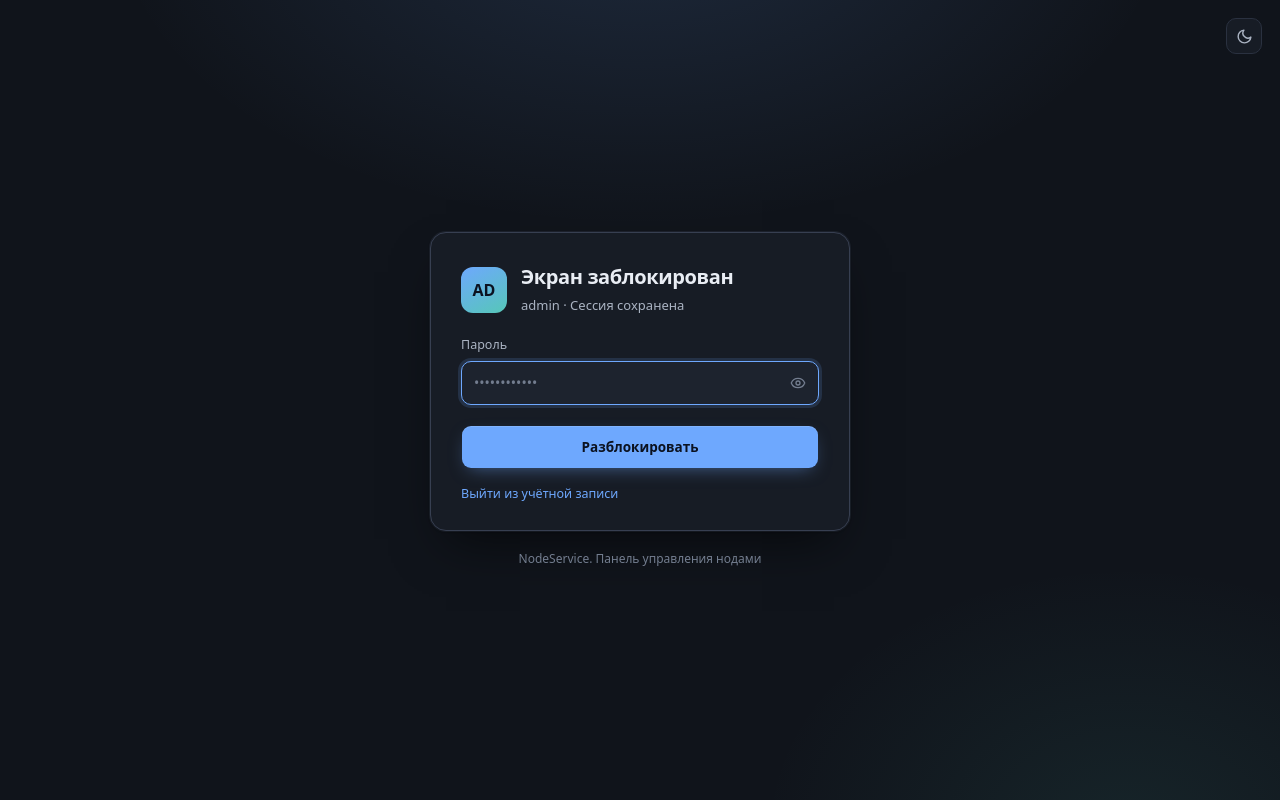
Test: LockPage › неверный пароль → ошибка, поле очищено
Type "wrong" into the password field labelled "Пароль".
click(640, 382); type("wrong")  # box [461,360,819,404]
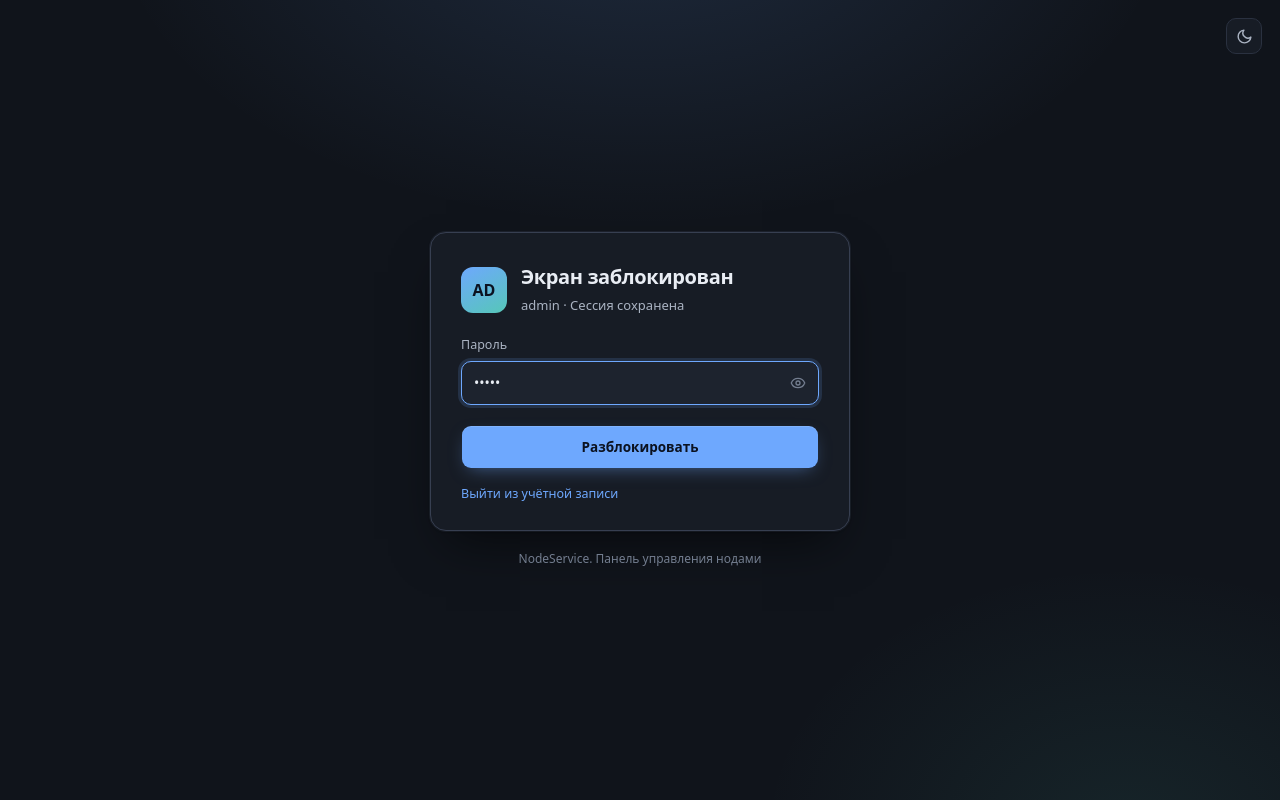
Click the button "Разблокировать".
click(640, 447)  # box [461,424,819,469]
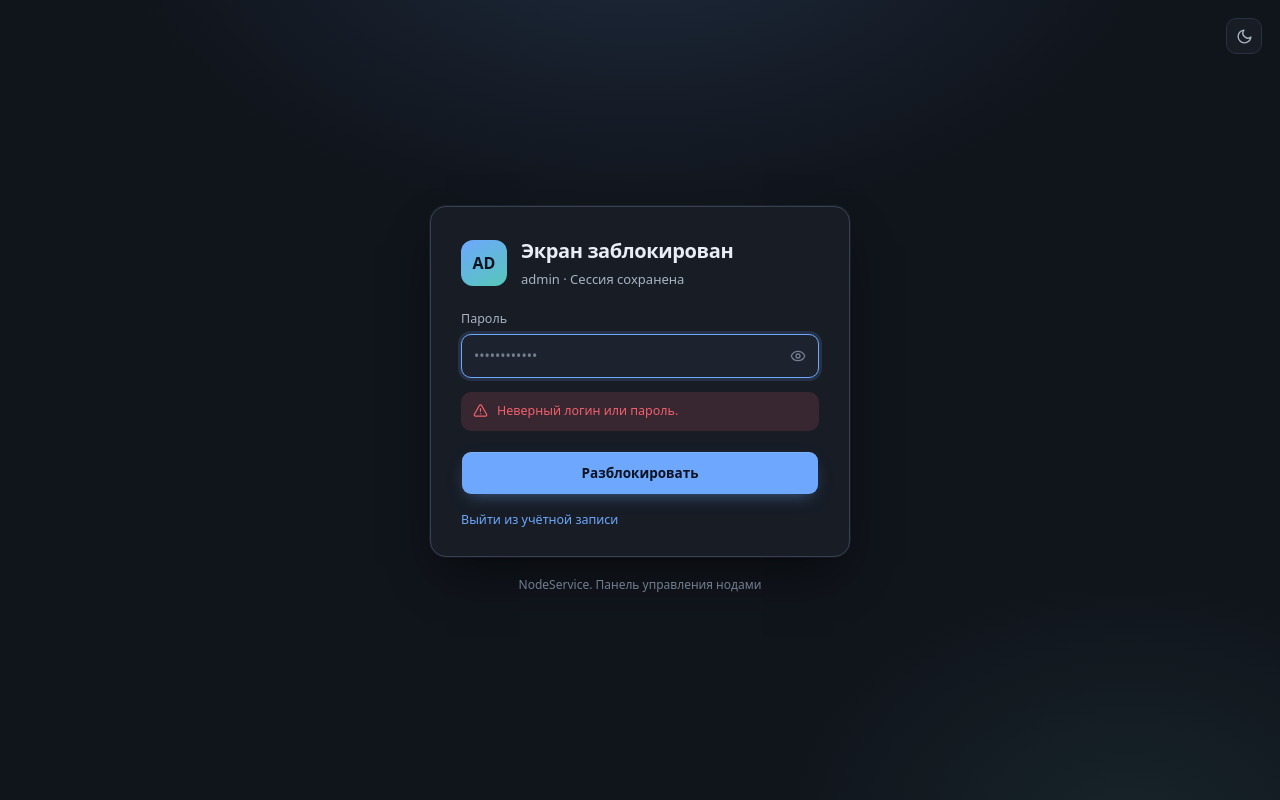
expect the message reads "Неверный логин или пароль.": met, box [497,402,678,420]
expect the password field labelled "Пароль" is empty: met, box [461,334,819,378]
